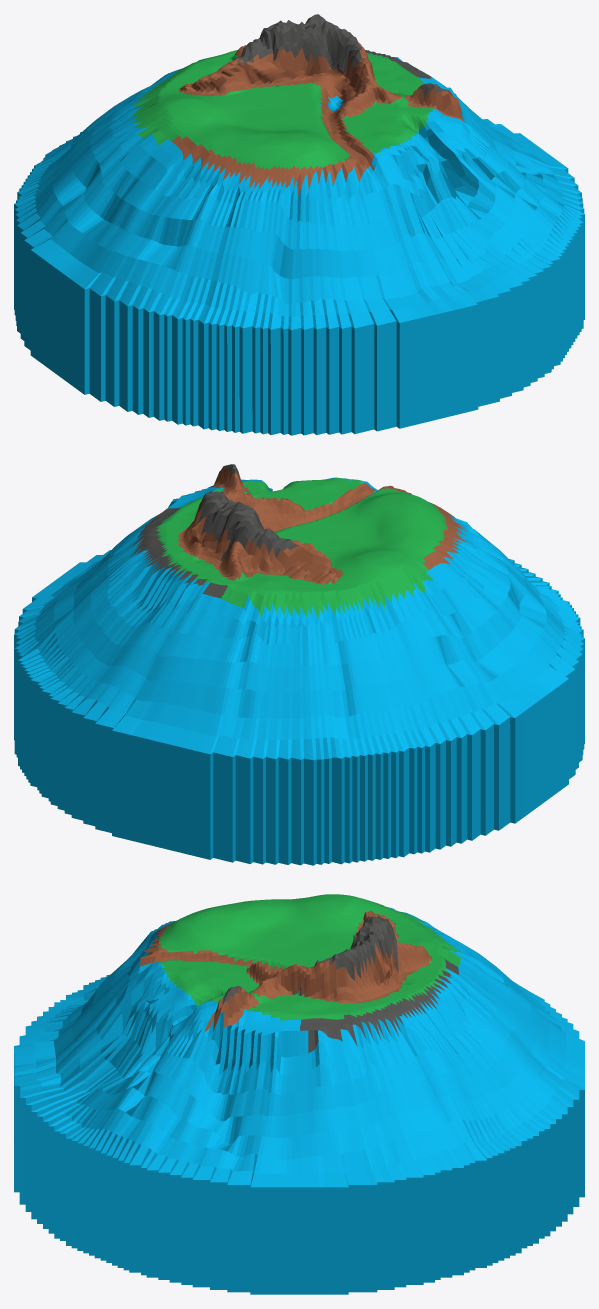
The model's file is terrain.gltf.
3 renders of one model, top to bottom at view 1: azimuth 30°, elevation 25°; view 2: azimuth 150°, elevation 25°; view 3: azimuth 270°, elevation 25°, orthographic.
Visible parts, largest first — view 1: Plane; view 2: Plane; view 3: Plane.
Part boxes in pixels (x1=…): Plane: x1=14, y1=14, x2=584, y2=435; Plane: x1=14, y1=464, x2=584, y2=865; Plane: x1=14, y1=894, x2=584, y2=1294.
Bounding box in the file's own units: 304 × 157 × 304.
1 material, 1 textured.
